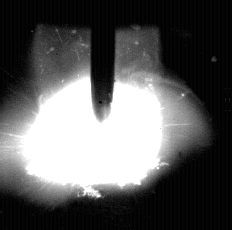arame: (92, 0, 115, 121)
poca: (38, 0, 163, 230)
